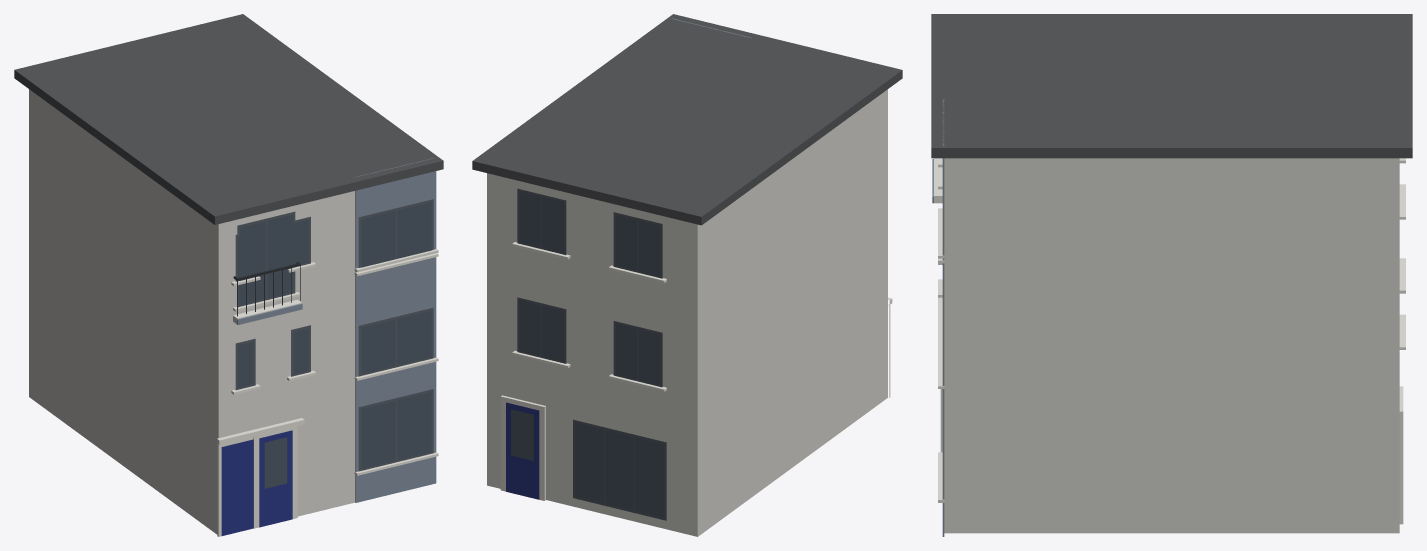
Rendered from nd-bb-row__pale__3__flat__long__solid.glb.
The picture shows the model from 3 angles, left to right: view 1: azimuth 30°, elevation 25°; view 2: azimuth 150°, elevation 25°; view 3: azimuth 270°, elevation 25°; orthographic projection. The views are drawn at different scales.
Visible parts, largest first — view 1: nd-bb-row__pale__3__flat__long__solid; view 2: nd-bb-row__pale__3__flat__long__solid; view 3: nd-bb-row__pale__3__flat__long__solid.
Part boxes in pixels (box(x1,y1,x2,y2)): nd-bb-row__pale__3__flat__long__solid: box(14, 14, 443, 536); nd-bb-row__pale__3__flat__long__solid: box(472, 14, 902, 536); nd-bb-row__pale__3__flat__long__solid: box(931, 14, 1412, 536).
Size of the model in its own units: 6.18 by 8.4 by 9.38.
